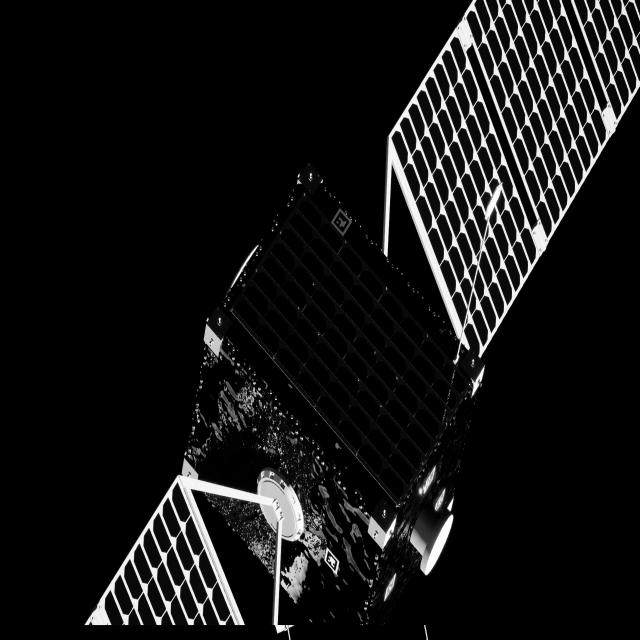satellite: (89, 0, 640, 640)
